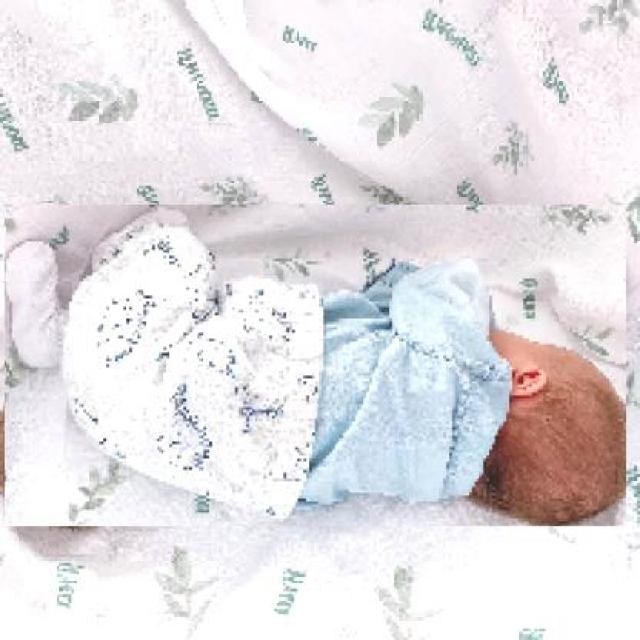child: (3, 206, 626, 528)
